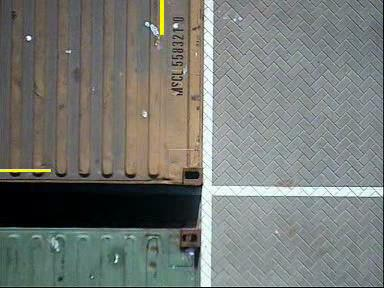groundmarker_2: (182, 195, 244, 229), (205, 4, 241, 50)
